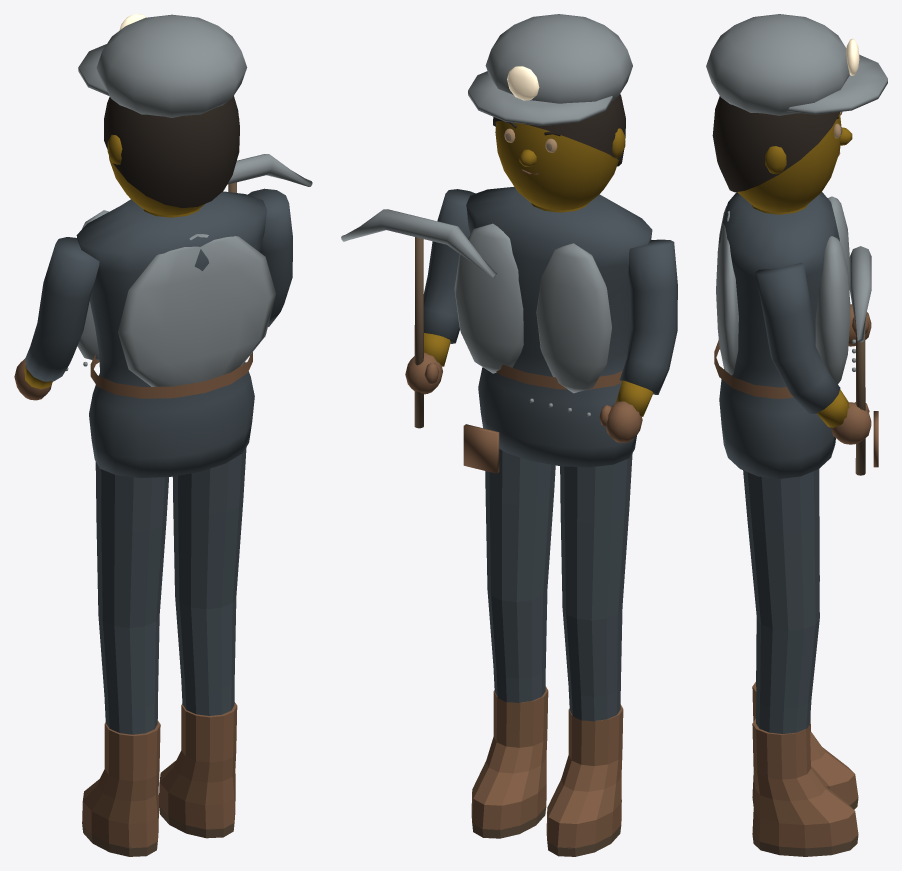
Rendered from SM_NPC_GLACIAR.glb.
3 views of the same model, side by side, from view 1: azimuth 30°, elevation 25°; view 2: azimuth 150°, elevation 25°; view 3: azimuth 270°, elevation 25° (orthographic). The views are drawn at different scales.
Parts seen in each view (by area): view 1: SM_NPC_GLACIAR_BODY, SM_NPC_GLACIAR_LEG_L, SM_NPC_GLACIAR_HAIR, SM_NPC_GLACIAR_LEG_R, SM_NPC_GLACIAR_ARM_L, SM_NPC_GLACIAR_ARM_R, SM_NPC_GLACIAR_HEAD; view 2: SM_NPC_GLACIAR_BODY, SM_NPC_GLACIAR_LEG_L, SM_NPC_GLACIAR_LEG_R, SM_NPC_GLACIAR_HAIR, SM_NPC_GLACIAR_ARM_R, SM_NPC_GLACIAR_ARM_L, SM_NPC_GLACIAR_HEAD; view 3: SM_NPC_GLACIAR_BODY, SM_NPC_GLACIAR_LEG_R, SM_NPC_GLACIAR_HAIR, SM_NPC_GLACIAR_ARM_R, SM_NPC_GLACIAR_HEAD, SM_NPC_GLACIAR_LEG_L, SM_NPC_GLACIAR_ARM_L.
Boxes of the visible parts, bbox=[...] form: SM_NPC_GLACIAR_BODY: bbox=[66, 191, 275, 477]; SM_NPC_GLACIAR_LEG_L: bbox=[82, 461, 168, 856]; SM_NPC_GLACIAR_HAIR: bbox=[78, 14, 247, 207]; SM_NPC_GLACIAR_LEG_R: bbox=[159, 447, 246, 838]; SM_NPC_GLACIAR_ARM_L: bbox=[14, 237, 99, 400]; SM_NPC_GLACIAR_ARM_R: bbox=[227, 154, 312, 326]; SM_NPC_GLACIAR_HEAD: bbox=[107, 118, 239, 215]; SM_NPC_GLACIAR_BODY: bbox=[454, 187, 652, 473]; SM_NPC_GLACIAR_LEG_L: bbox=[546, 453, 632, 856]; SM_NPC_GLACIAR_LEG_R: bbox=[471, 449, 555, 838]; SM_NPC_GLACIAR_HAIR: bbox=[468, 14, 632, 166]; SM_NPC_GLACIAR_ARM_R: bbox=[341, 189, 497, 428]; SM_NPC_GLACIAR_ARM_L: bbox=[599, 239, 677, 442]; SM_NPC_GLACIAR_HEAD: bbox=[495, 121, 625, 210]; SM_NPC_GLACIAR_BODY: bbox=[714, 192, 878, 478]; SM_NPC_GLACIAR_LEG_R: bbox=[743, 469, 858, 856]; SM_NPC_GLACIAR_HAIR: bbox=[706, 14, 887, 192]; SM_NPC_GLACIAR_ARM_R: bbox=[755, 246, 871, 475]; SM_NPC_GLACIAR_HEAD: bbox=[737, 114, 852, 212]; SM_NPC_GLACIAR_LEG_L: bbox=[752, 469, 858, 809]; SM_NPC_GLACIAR_ARM_L: bbox=[848, 304, 871, 346].
Size of the model in its own units: 0.7367 by 1.87 by 0.3848.
